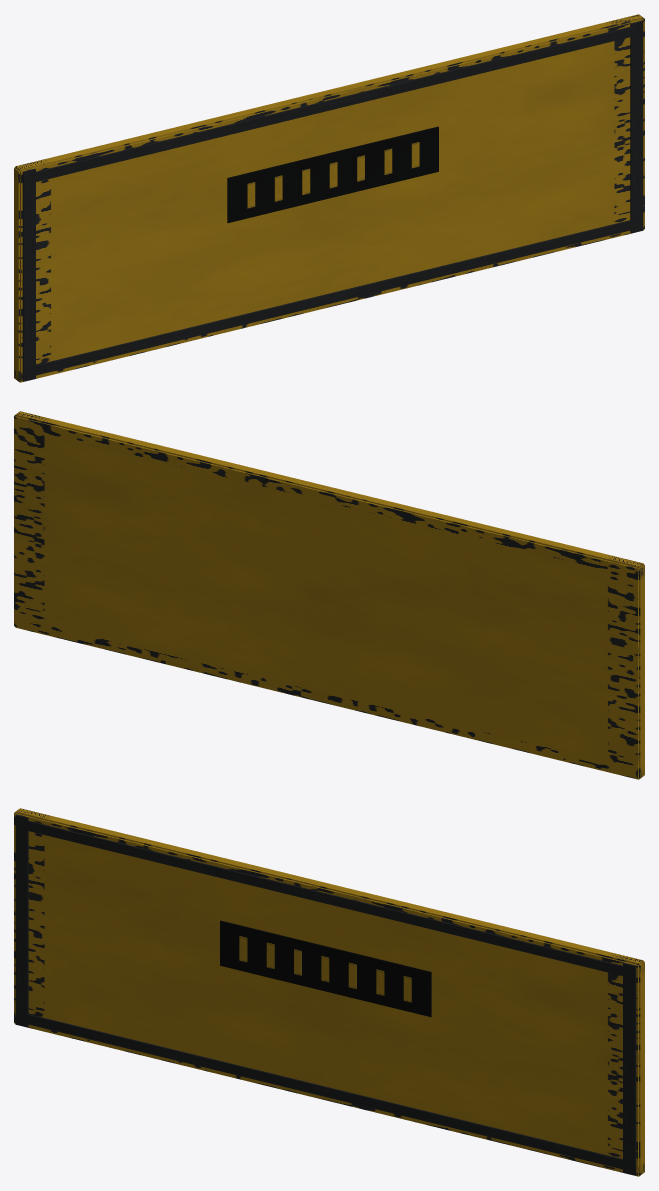
The model's file is RailCrossingBarrier.fbx.
3 views of the same model, one above another, from view 1: azimuth 30°, elevation 25°; view 2: azimuth 150°, elevation 25°; view 3: azimuth 330°, elevation 25° (orthographic).
Parts seen in each view (by area): view 1: RailCrossingBarrier.001; view 2: RailCrossingBarrier.001; view 3: RailCrossingBarrier.001.
Part boxes in pixels (x1,y1,x2,y2): RailCrossingBarrier.001: (14,14,644,382); RailCrossingBarrier.001: (14,411,644,779); RailCrossingBarrier.001: (14,808,644,1176).
Bounding box in the file's own units: 8 × 2.6 × 0.1625.
